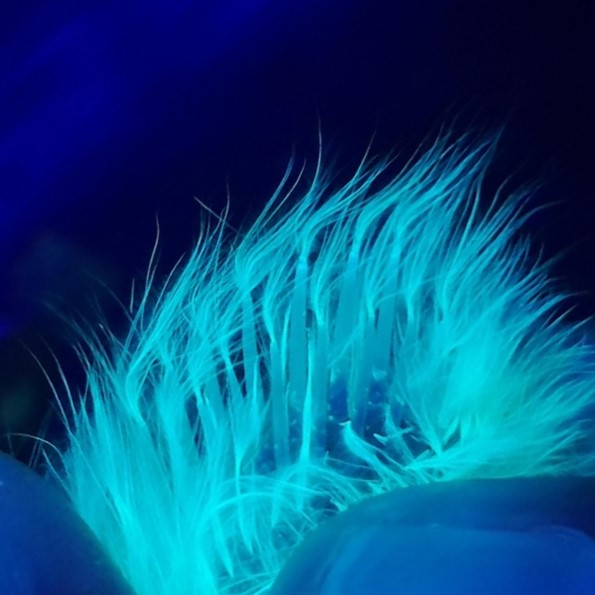female: (109, 227, 488, 546)
